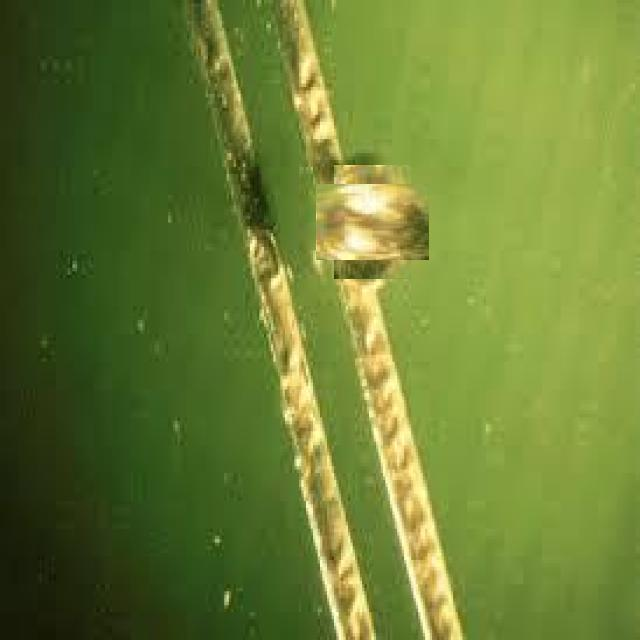redundant: (316, 184, 429, 260)
